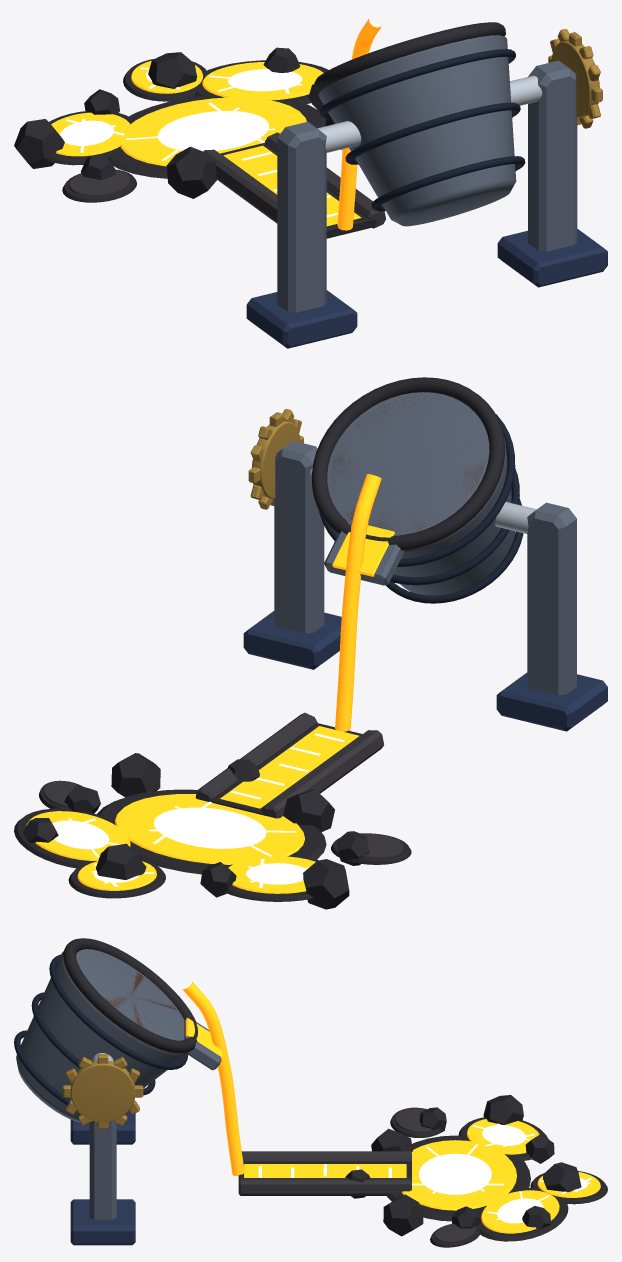
Rendered from foundry_dress_crucible.glb.
3 renders of one model, top to bottom at view 1: azimuth 30°, elevation 25°; view 2: azimuth 150°, elevation 25°; view 3: azimuth 270°, elevation 25°, orthographic. The views are drawn at different scales.
Visible parts, largest first — view 1: crucible_shell, crucible_frame-1, crucible_frame1, pool_main_skin, crucible_frame_foot-1, crucible_frame_foot1, pool_main_core, crucible_crust, pool_b_skin, pool_main_crust, slag_crust3, channel_bank-1 (+23 smaller); view 2: crucible_shell, crucible_frame-1, crucible_frame1, crucible_crust, pool_main_skin, crucible_stream, crucible_frame_foot-1, channel_melt, crucible_frame_foot1, pool_main_core, channel_bank-1, pool_main_crust (+26 smaller); view 3: crucible_shell, crucible_crust, pool_main_skin, crucible_gear, channel_bank1, crucible_frame1, crucible_stream, crucible_frame_foot1, pool_main_core, channel_bank-1, channel_melt, pool_b_skin (+26 smaller).
Part boxes in pixels (box(x1,y1,x2,y2)): crucible_shell: box(318, 35, 516, 226); crucible_frame-1: box(277, 121, 326, 312); crucible_frame1: box(528, 60, 577, 251); pool_main_skin: box(120, 97, 306, 166); crucible_frame_foot-1: box(246, 290, 357, 348); crucible_frame_foot1: box(497, 229, 607, 287); pool_main_core: box(158, 111, 269, 151); crucible_crust: box(314, 22, 505, 92); pool_b_skin: box(202, 62, 323, 100); pool_main_crust: box(107, 94, 326, 178); slag_crust3: box(166, 146, 216, 198); channel_bank-1: box(203, 149, 277, 223); crucible_shell: box(327, 392, 515, 595); crucible_frame-1: box(527, 502, 576, 695); crucible_frame1: box(274, 441, 324, 633); crucible_crust: box(312, 377, 504, 550); pool_main_skin: box(115, 794, 304, 864); crucible_stream: box(335, 474, 381, 731); crucible_frame_foot-1: box(496, 672, 607, 731); channel_melt: box(220, 726, 358, 808); crucible_frame_foot1: box(243, 611, 341, 669); pool_main_core: box(153, 807, 266, 848); channel_bank-1: box(262, 730, 383, 818); pool_main_crust: box(97, 789, 326, 874); crucible_shell: box(16, 949, 188, 1122); crucible_crust: box(63, 938, 197, 1053); pool_main_skin: box(402, 1140, 516, 1210); crucible_gear: box(70, 1061, 135, 1122); channel_bank1: box(238, 1178, 411, 1195); crucible_frame1: box(89, 1121, 116, 1219); crucible_stream: box(182, 981, 244, 1175); crucible_frame_foot1: box(70, 1199, 135, 1245); pool_main_core: box(418, 1153, 491, 1194); channel_bank-1: box(241, 1151, 411, 1162); channel_melt: box(244, 1164, 406, 1177); pool_b_skin: box(481, 1190, 559, 1233).
Size of what is drawn, in the model's own units: 6.01 by 4.94 by 10.96.
